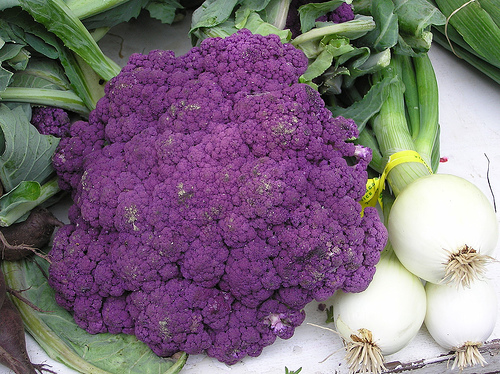cauliflower: (33, 28, 391, 365)
